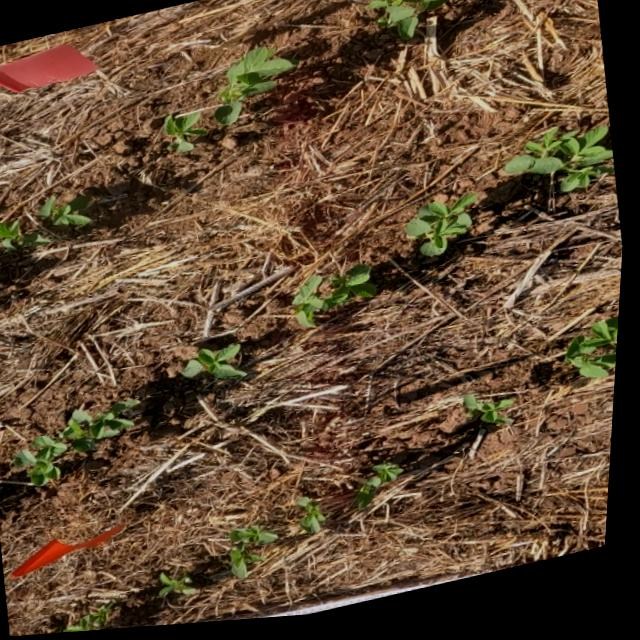soy_plant: (20, 404, 143, 487), (507, 136, 617, 201), (215, 52, 294, 128), (297, 270, 379, 332), (368, 0, 469, 47), (408, 202, 479, 263), (567, 326, 623, 387), (230, 530, 284, 583), (186, 347, 250, 384), (362, 469, 408, 516), (164, 113, 207, 156), (40, 196, 93, 228), (0, 220, 53, 250), (469, 402, 516, 434), (71, 605, 117, 634), (303, 502, 332, 540), (164, 574, 203, 600)
